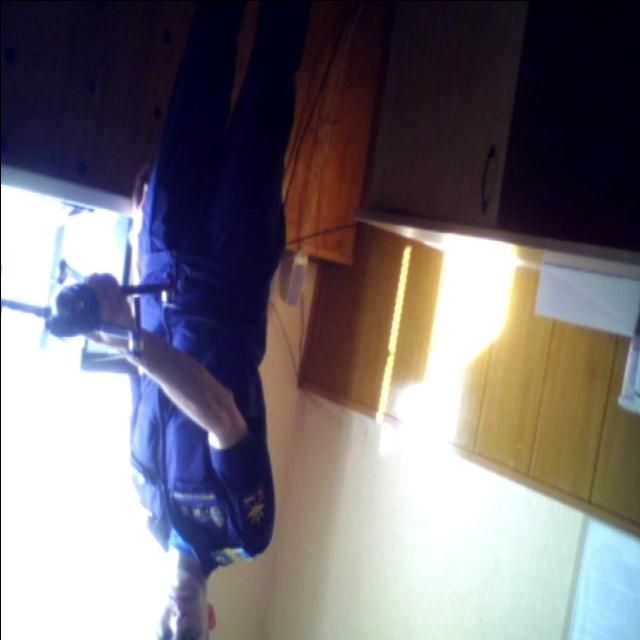drone: (0, 240, 184, 375)
